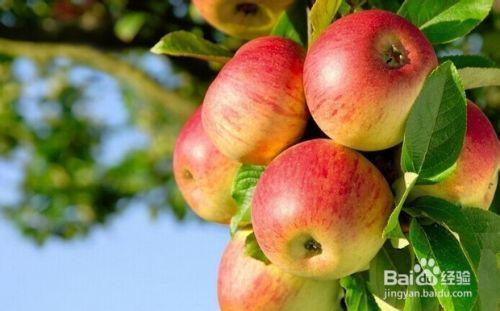apple: (250, 139, 393, 280), (303, 8, 440, 153), (203, 37, 312, 170), (410, 97, 500, 216), (216, 231, 345, 311), (175, 104, 253, 222)
